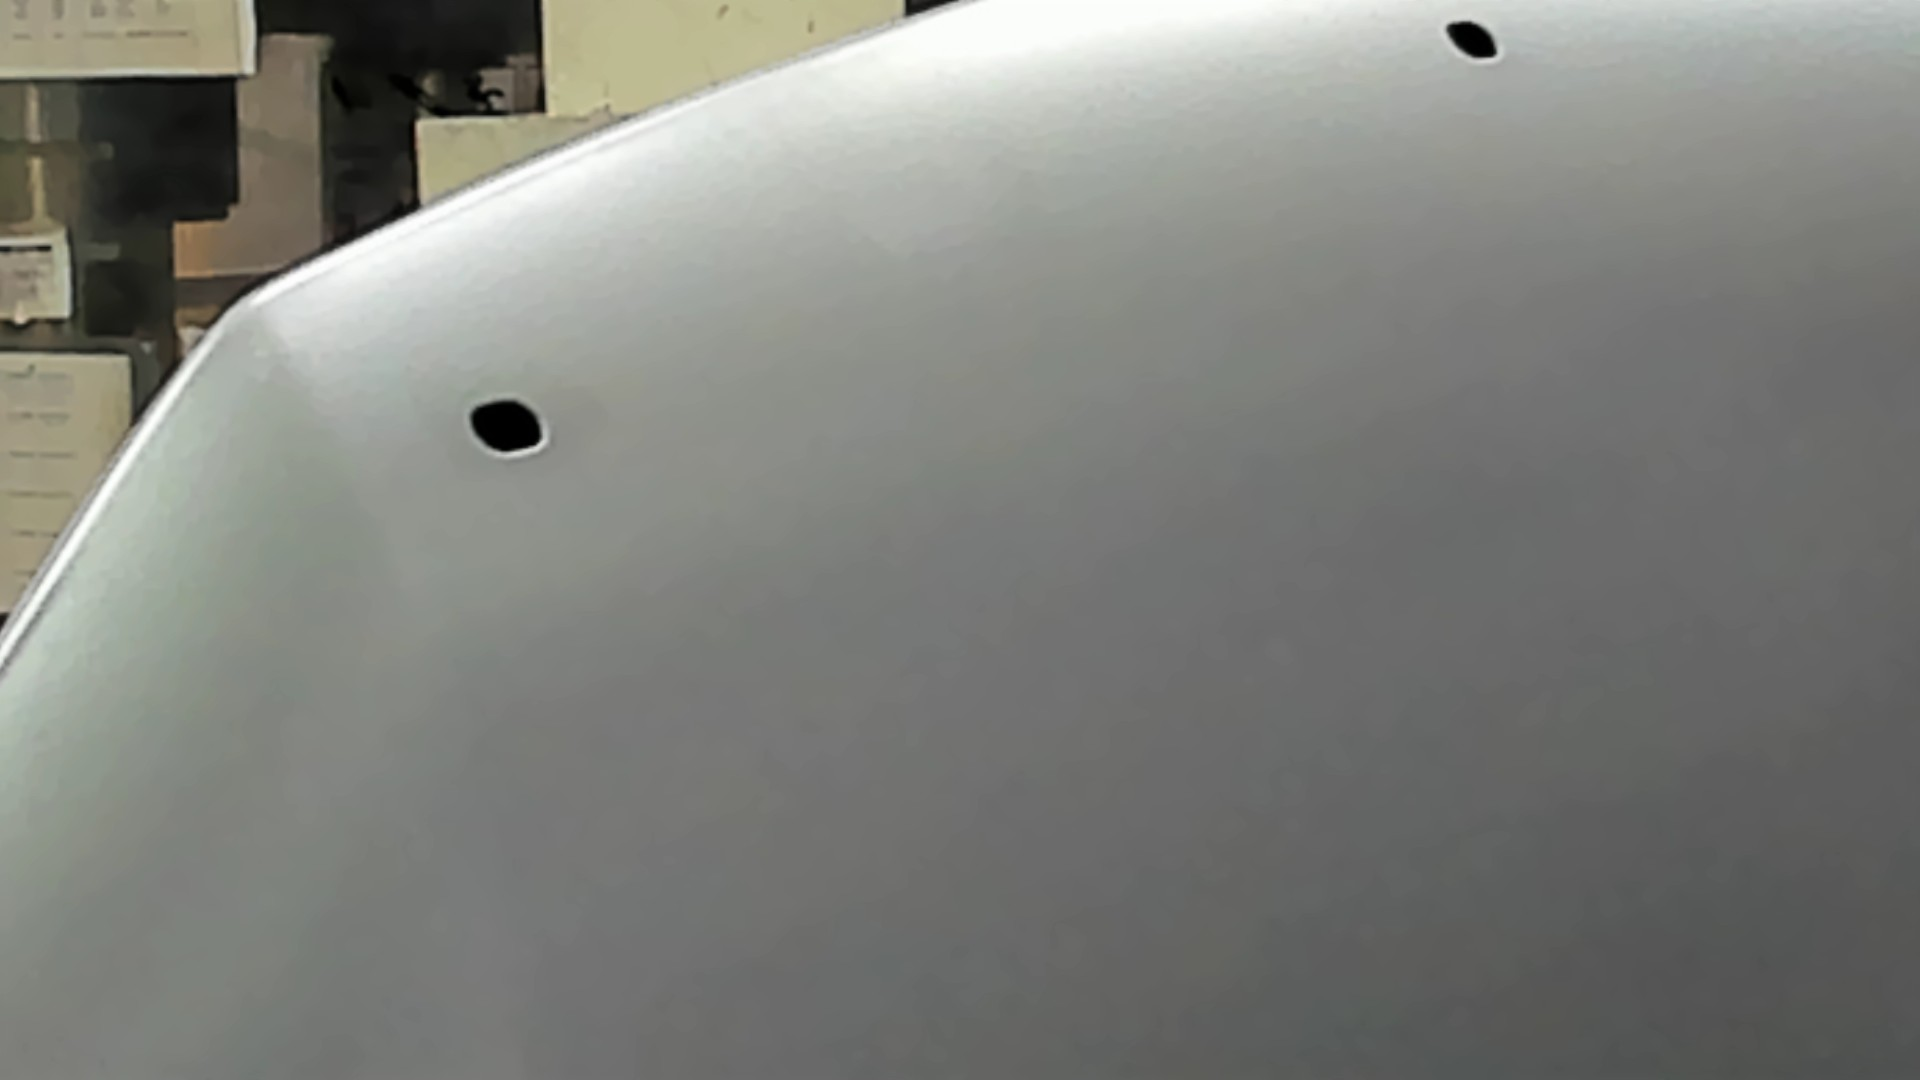amorfo: (458, 390, 556, 463), (1436, 15, 1502, 69)
capo: (729, 171, 1920, 1080)
